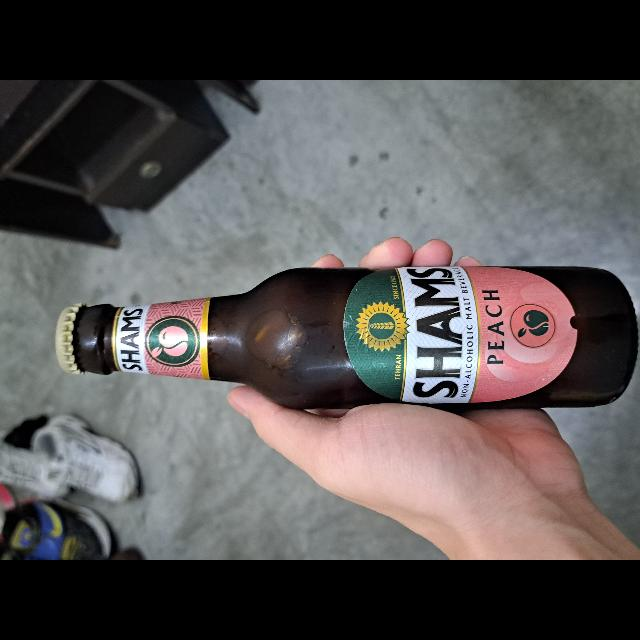garrafa de vidro: (55, 267, 638, 408)
